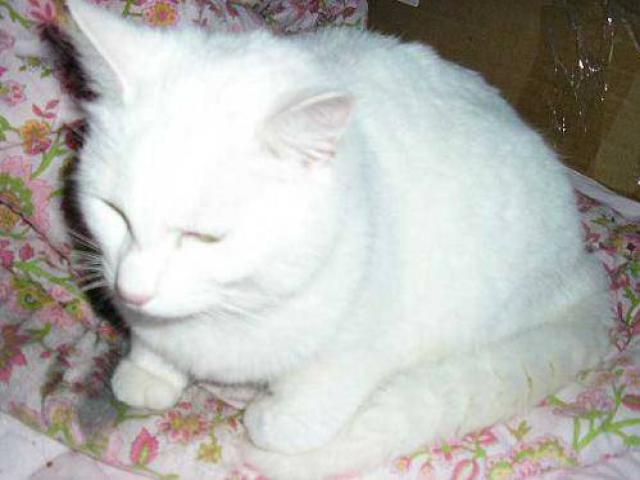cat: (20, 4, 620, 457)
